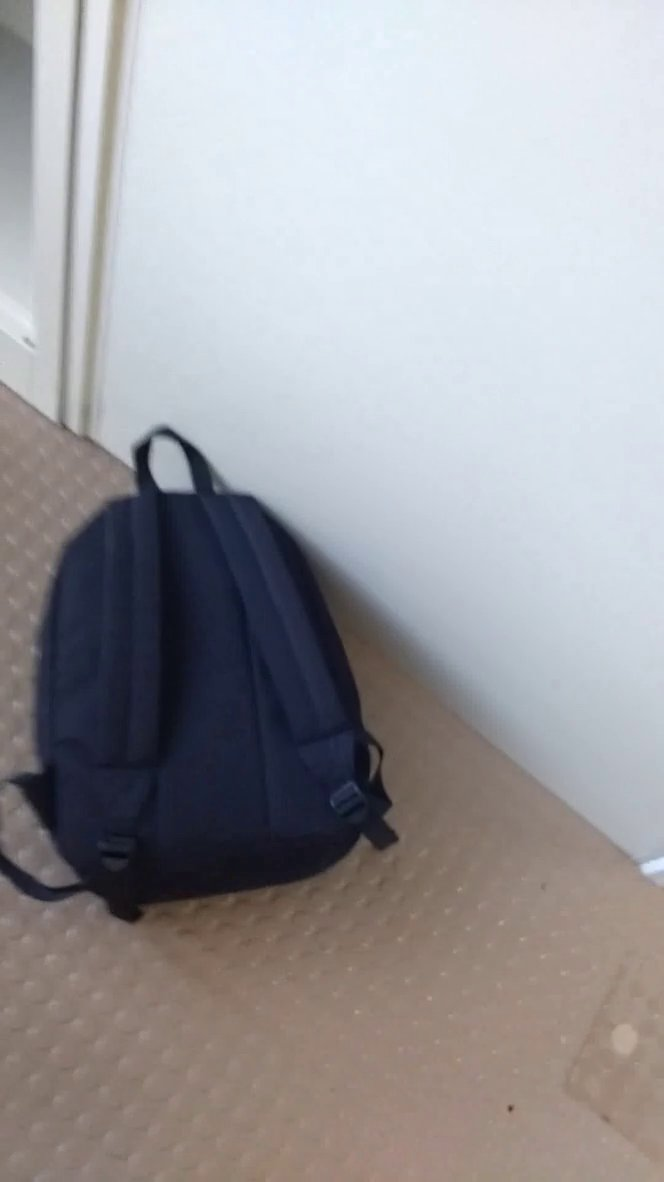bag: (1, 367, 423, 935)
